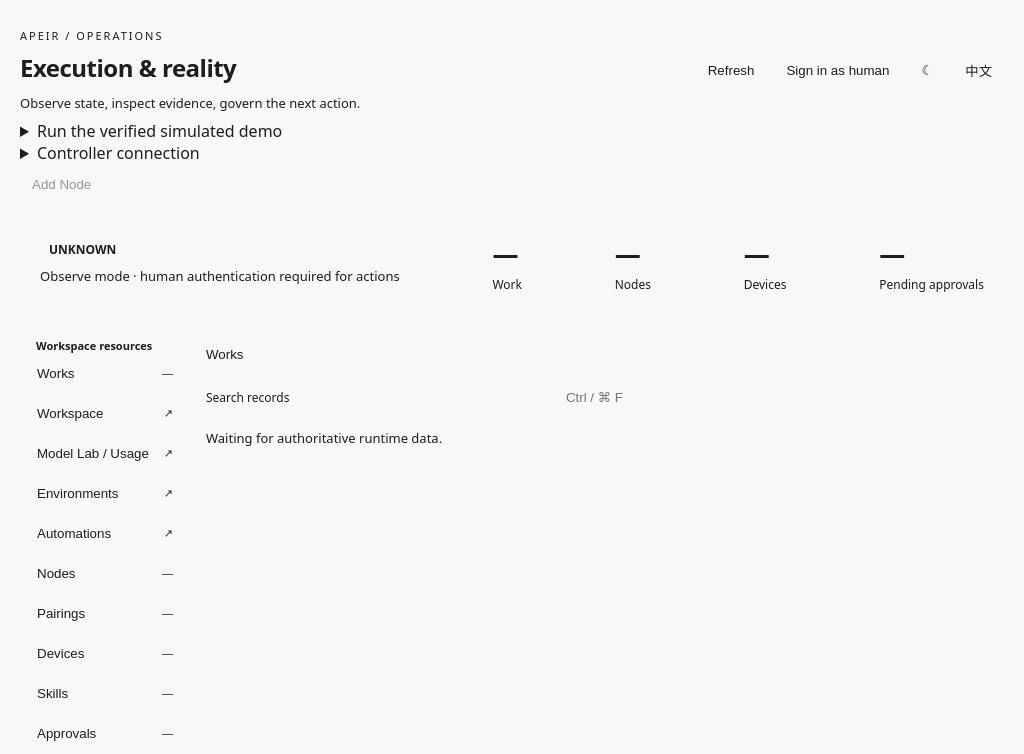
Test: Automation Desktop original-state consumer › opens the real Console pane without reading private Automations while signed out
This screenshot has width=1024, height=754.
Click the button "automations ↗": (105, 533) [28, 513, 182, 553]
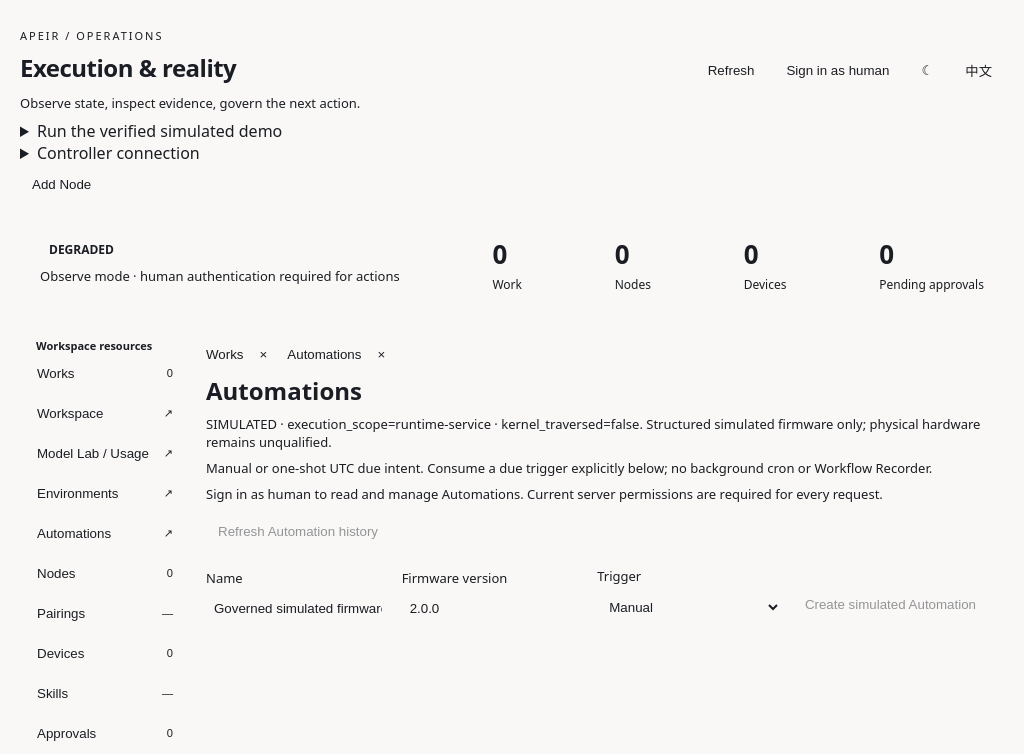
Expected: the element named "Automation inspector" shows "kernel_traversed=false", [206, 415, 980, 451]
Expected: the button "Create simulated Automation" is disabled, [793, 584, 988, 624]
